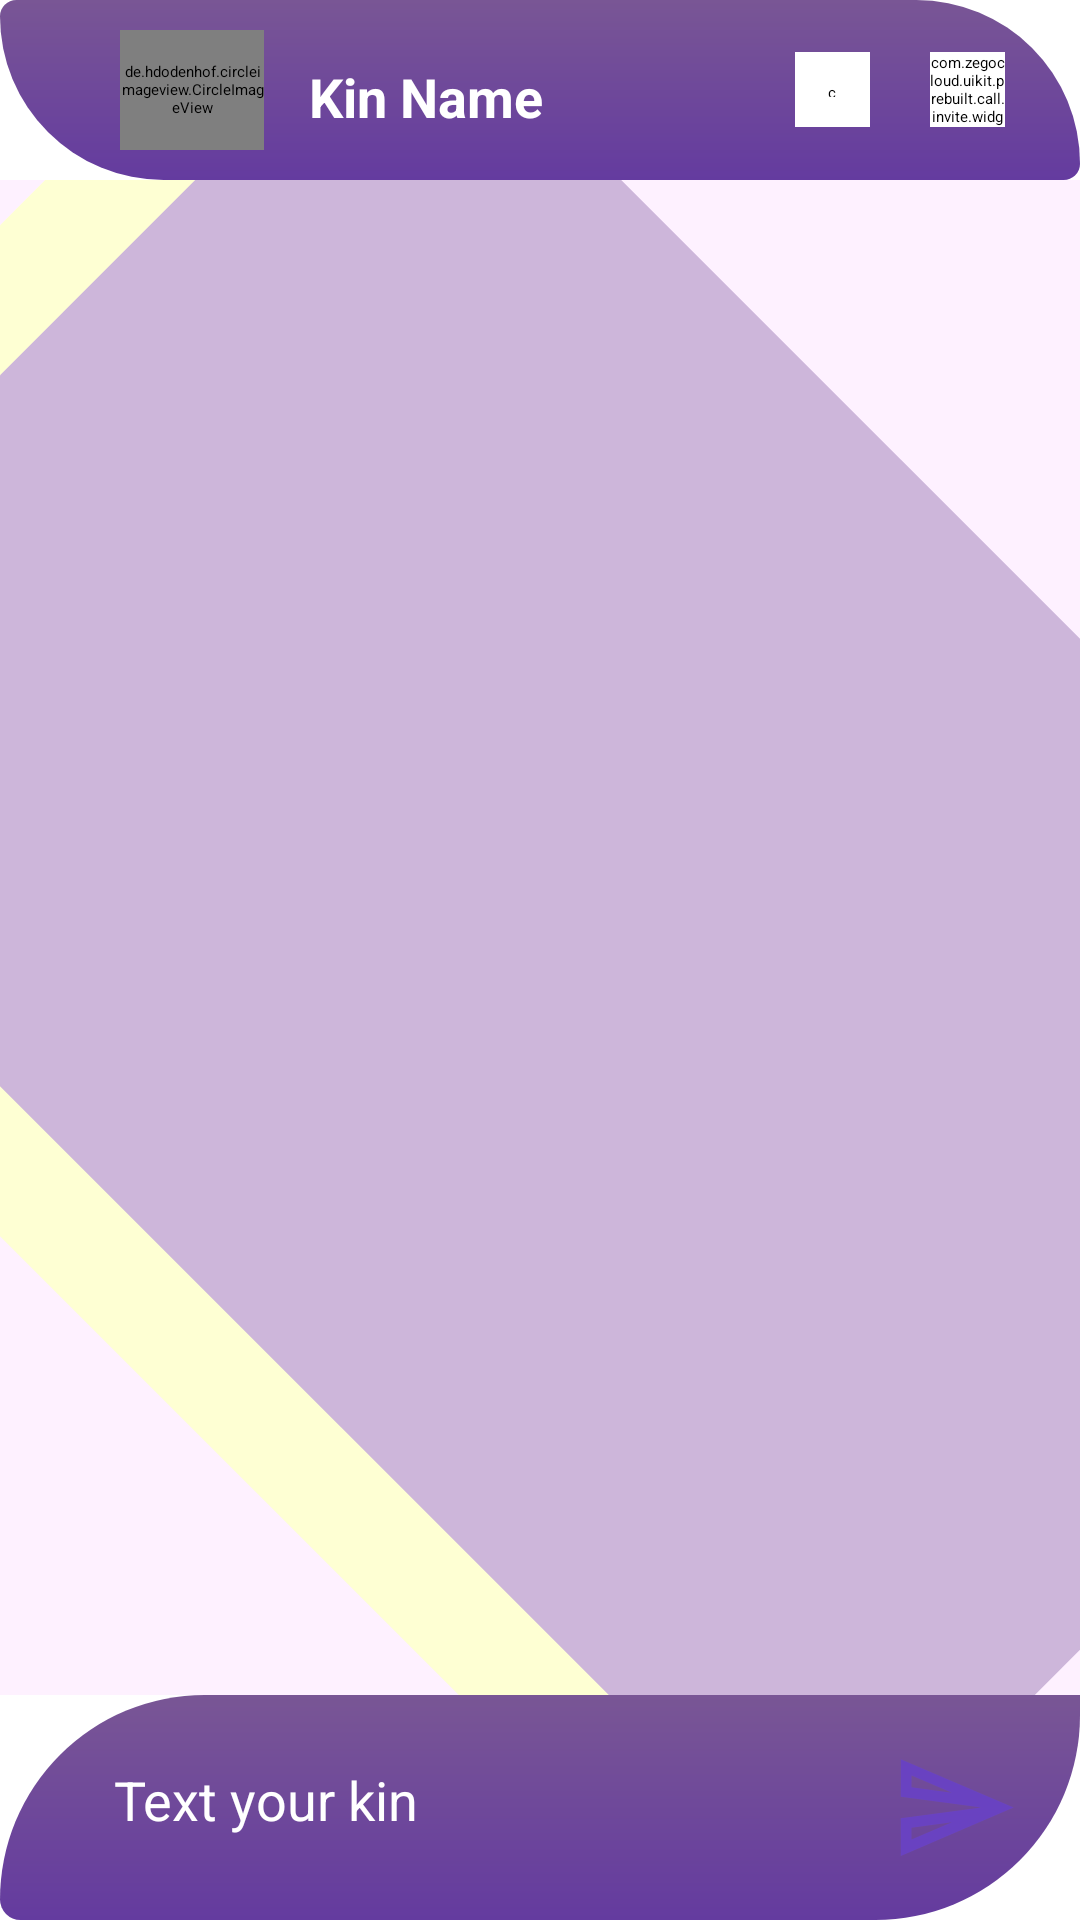

Screen size 1080*1920. Icon name, then its center in pixels as (x=x, y=y):
send: (x=954, y=1827)
